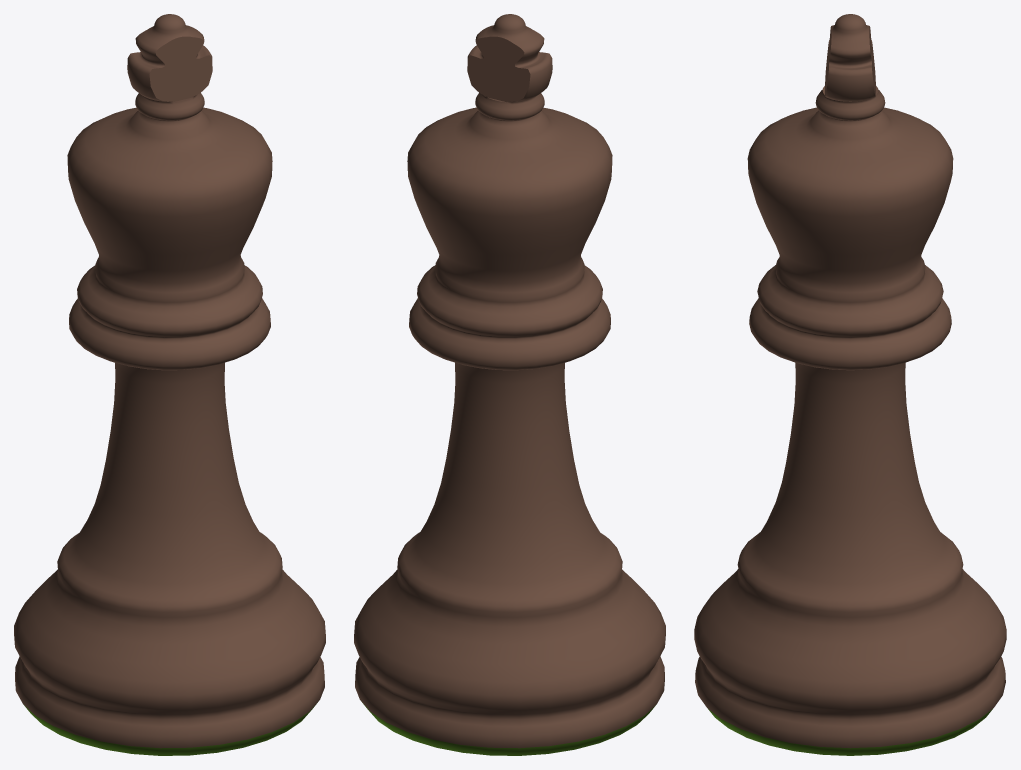
File: blackking.glb
3 views of the same model, side by side, from view 1: azimuth 30°, elevation 25°; view 2: azimuth 150°, elevation 25°; view 3: azimuth 270°, elevation 25° (orthographic).
Parts seen in each view (by area): view 1: blackking; view 2: blackking; view 3: blackking.
Boxes of the visible parts, left/top/right/bottom form: blackking: left=14, top=14, right=325, bottom=755; blackking: left=354, top=14, right=665, bottom=755; blackking: left=694, top=14, right=1006, bottom=755.
Bounding box in the file's own units: 0.6948 × 1.69 × 0.6948.
